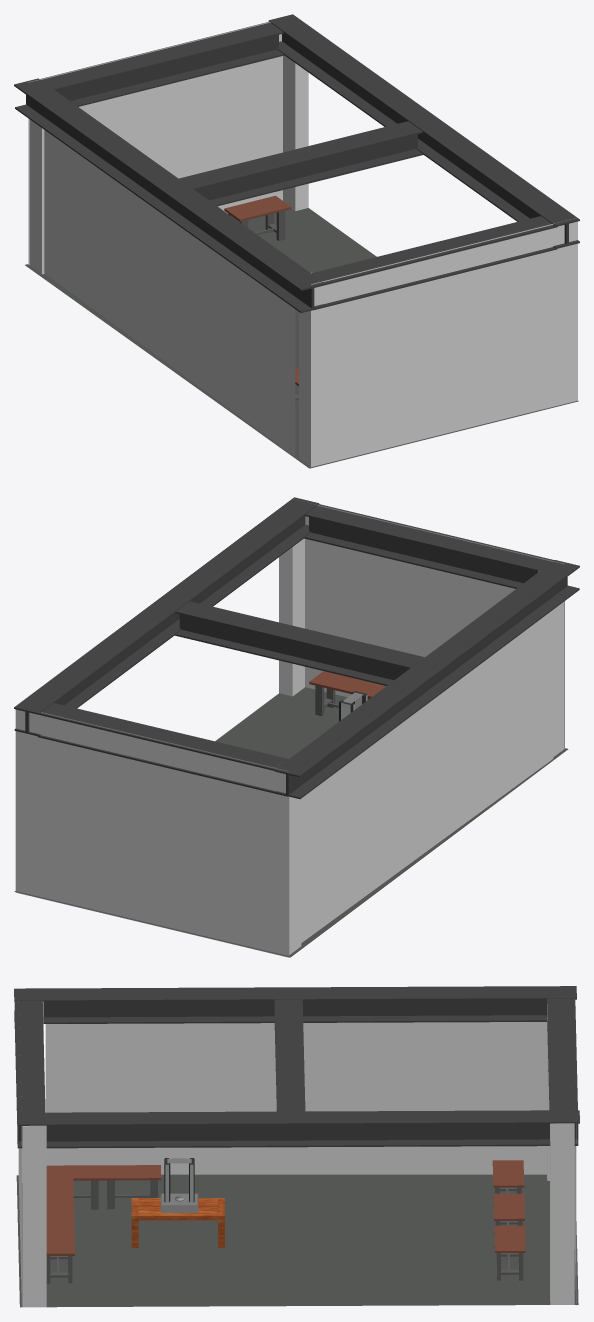
Rendered from laboratorio-compresion2.gltf.
The picture shows the model from 3 angles, top to bottom: view 1: azimuth 30°, elevation 25°; view 2: azimuth 150°, elevation 25°; view 3: azimuth 270°, elevation 25°; orthographic projection.
Parts seen in each view (by area): view 1: Vigas_Amarre, ParedFondo, ParedIzquierda.009, ParedDerecha, Piso, Columna4, Colimna3, Columna2, Mesa.Lab3; view 2: ParedDerecha, Vigas_Amarre, ParedIzquierda.009, ParedFondo, Piso, Columna1, Colimna3, Columna2, mesa5; view 3: Piso, ParedIzquierda.009, Vigas_Amarre, Columna1, Columna4, mesa_compresion, mesa1, Mesa.Lab3, mesa5, mesa2, Mesa.Lab1, Mesa.Lab2 (+4 smaller).
Boxes of the visible parts, <box> form: Vigas_Amarre: <box>14,14,579,312</box>; ParedFondo: <box>311,217,577,467</box>; ParedIzquierda.009: <box>44,130,295,456</box>; ParedDerecha: <box>28,22,282,264</box>; Piso: <box>25,208,578,468</box>; Columna4: <box>283,55,308,210</box>; Colimna3: <box>29,119,44,274</box>; Columna2: <box>299,272,312,466</box>; Mesa.Lab3: <box>224,195,291,240</box>; ParedDerecha: <box>15,709,288,957</box>; Vigas_Amarre: <box>14,497,579,799</box>; ParedIzquierda.009: <box>301,610,553,942</box>; ParedFondo: <box>293,499,564,748</box>; Piso: <box>14,687,568,957</box>; Columna1: <box>279,538,304,696</box>; Colimna3: <box>275,767,301,955</box>; Columna2: <box>538,570,564,756</box>; mesa5: <box>309,671,375,716</box>; Piso: <box>16,1174,578,1307</box>; ParedIzquierda.009: <box>45,1022,546,1174</box>; Vigas_Amarre: <box>14,986,579,1148</box>; Columna1: <box>22,1125,46,1307</box>; Columna4: <box>550,1123,574,1304</box>; mesa_compresion: <box>131,1198,224,1247</box>; mesa1: <box>101,1165,161,1209</box>; Mesa.Lab3: <box>494,1225,525,1280</box>; mesa5: <box>46,1228,74,1283</box>; mesa2: <box>46,1165,101,1209</box>; Mesa.Lab1: <box>492,1160,524,1193</box>; Mesa.Lab2: <box>493,1193,524,1225</box>.
Bounding box in the file's own units: 10.57 × 6.51 × 18.15.
Materials: 15 (1 with a texture image).
